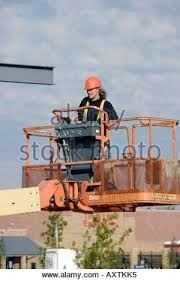helmet: (82, 75, 103, 92)
person with partial safety: (75, 75, 120, 126)
